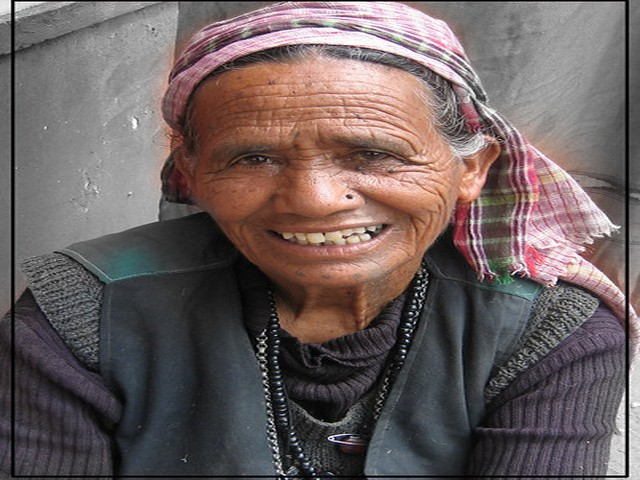Person: (7, 10, 634, 477)
